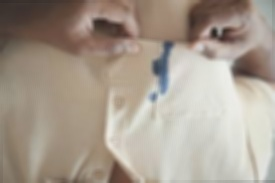ink: (160, 44, 171, 94), (153, 60, 159, 76), (149, 92, 157, 102)
